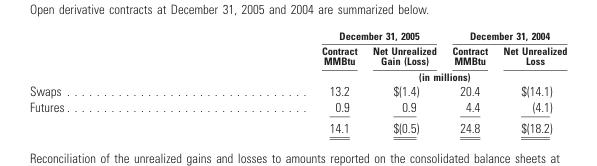table: (28, 28, 566, 134)
table column: (194, 28, 364, 134), (28, 28, 194, 134), (364, 28, 443, 134), (494, 28, 566, 134), (443, 28, 494, 134)
table column header: (28, 28, 566, 82)
table row: (28, 42, 566, 68), (28, 98, 566, 116), (28, 116, 566, 134), (28, 82, 566, 98), (28, 28, 566, 42), (28, 68, 566, 82)
table spanning cell: (194, 68, 566, 82), (194, 28, 443, 42), (443, 28, 566, 42)
